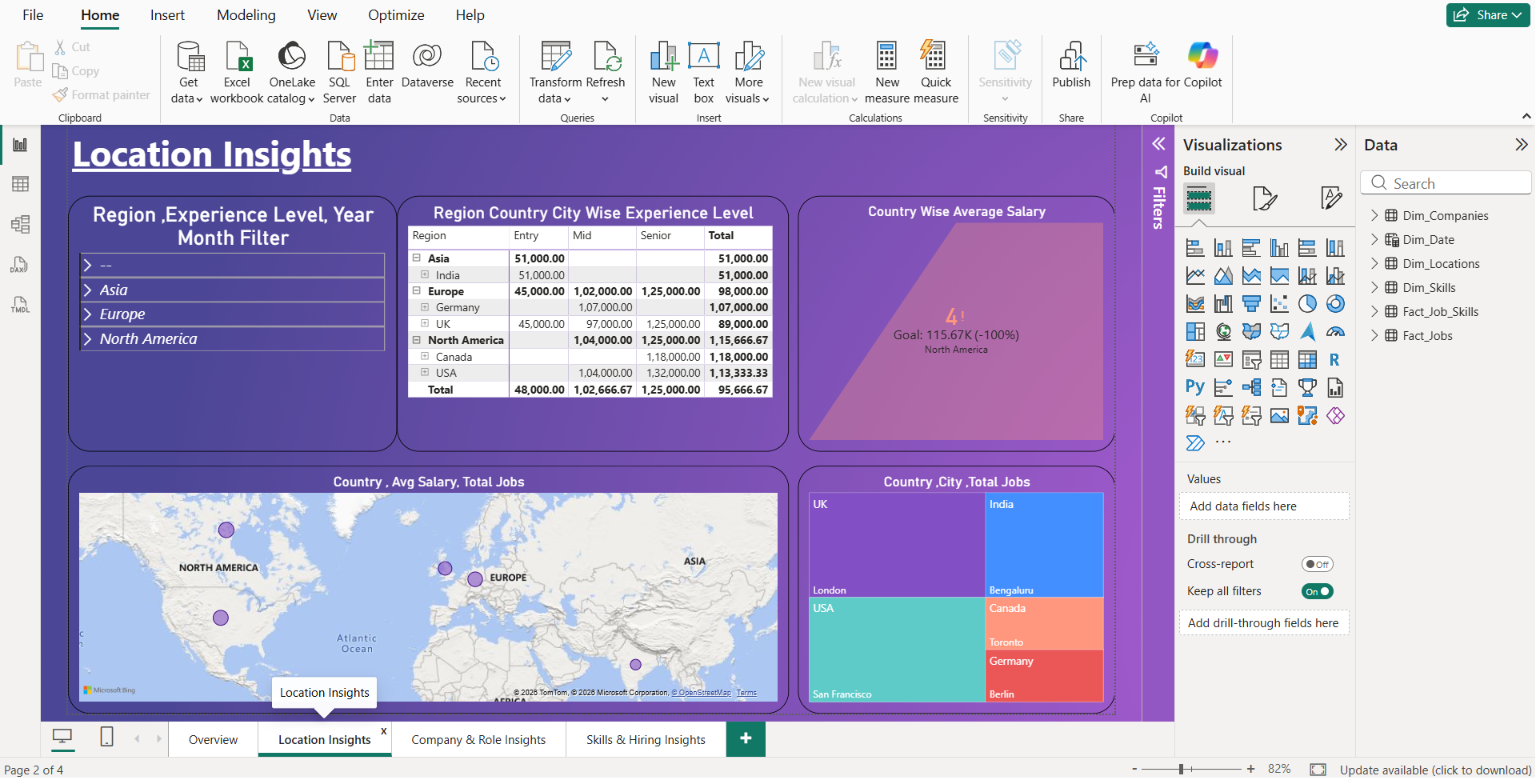

This screenshot's page, from the dashboard's own definition file:
{"tool":"powerbi","page":{"name":"Location Insights","canvas":[1280,720],"ordinal":1},"visuals":[{"type":"textbox","box":[0,0,375.4,75.8],"z":0},{"type":"listSlicer","title":"Region ,Experience Level, Year Month Filter","fields":{"Values":["Dim_Locations.Region","Fact_Jobs.Experience_Level","Dim_Date.YearMonth"]},"box":[0,86.8,402.3,313],"z":1000},{"type":"map","title":"Country , Avg Salary, Total Jobs","fields":{"Category":["Dim_Locations.Country"],"Size":["Fact_Jobs.AvgSalary"]},"box":[0,417,881.7,303.3],"z":2000},{"type":"kpi","title":"Country Wise Average Salary","fields":{"Indicator":["Fact_Jobs.TotalJobs"],"TrendLine":["Dim_Locations.Region"],"Goal":["Fact_Jobs.AvgSalaryByCountry"]},"box":[892.7,86.8,387.6,313],"z":3000},{"type":"treemap","title":"Country ,City ,Total Jobs","fields":{"Values":["Fact_Jobs.TotalJobs"],"Group":["Dim_Locations.Country"],"Details":["Dim_Locations.City"]},"box":[892.7,417,387.6,303.3],"z":4000},{"type":"pivotTable","title":"Region Country City Wise Experience Level","fields":{"Values":["Fact_Jobs.AvgSalaryByCountry"],"Columns":["Fact_Jobs.Experience_Level"],"Rows":["Dim_Locations.Region","Dim_Locations.Country","Dim_Locations.City"]},"box":[402.3,86.8,479.4,313],"z":5000}]}

Visuals, with their boxes on the page's 1280x720 design canvas (x1, y1, x2, y2). These are canvas units, not pixel positions in the 1535x778 screenshot, which may show the page scaled, cropped or inside an application window:
textbox: (0, 0, 375, 76)
"Region ,Experience Level, Year Month Filter" listSlicer: (0, 87, 402, 400)
"Country , Avg Salary, Total Jobs" map: (0, 417, 882, 720)
"Country Wise Average Salary" kpi: (893, 87, 1280, 400)
"Country ,City ,Total Jobs" treemap: (893, 417, 1280, 720)
"Region Country City Wise Experience Level" pivotTable: (402, 87, 882, 400)
